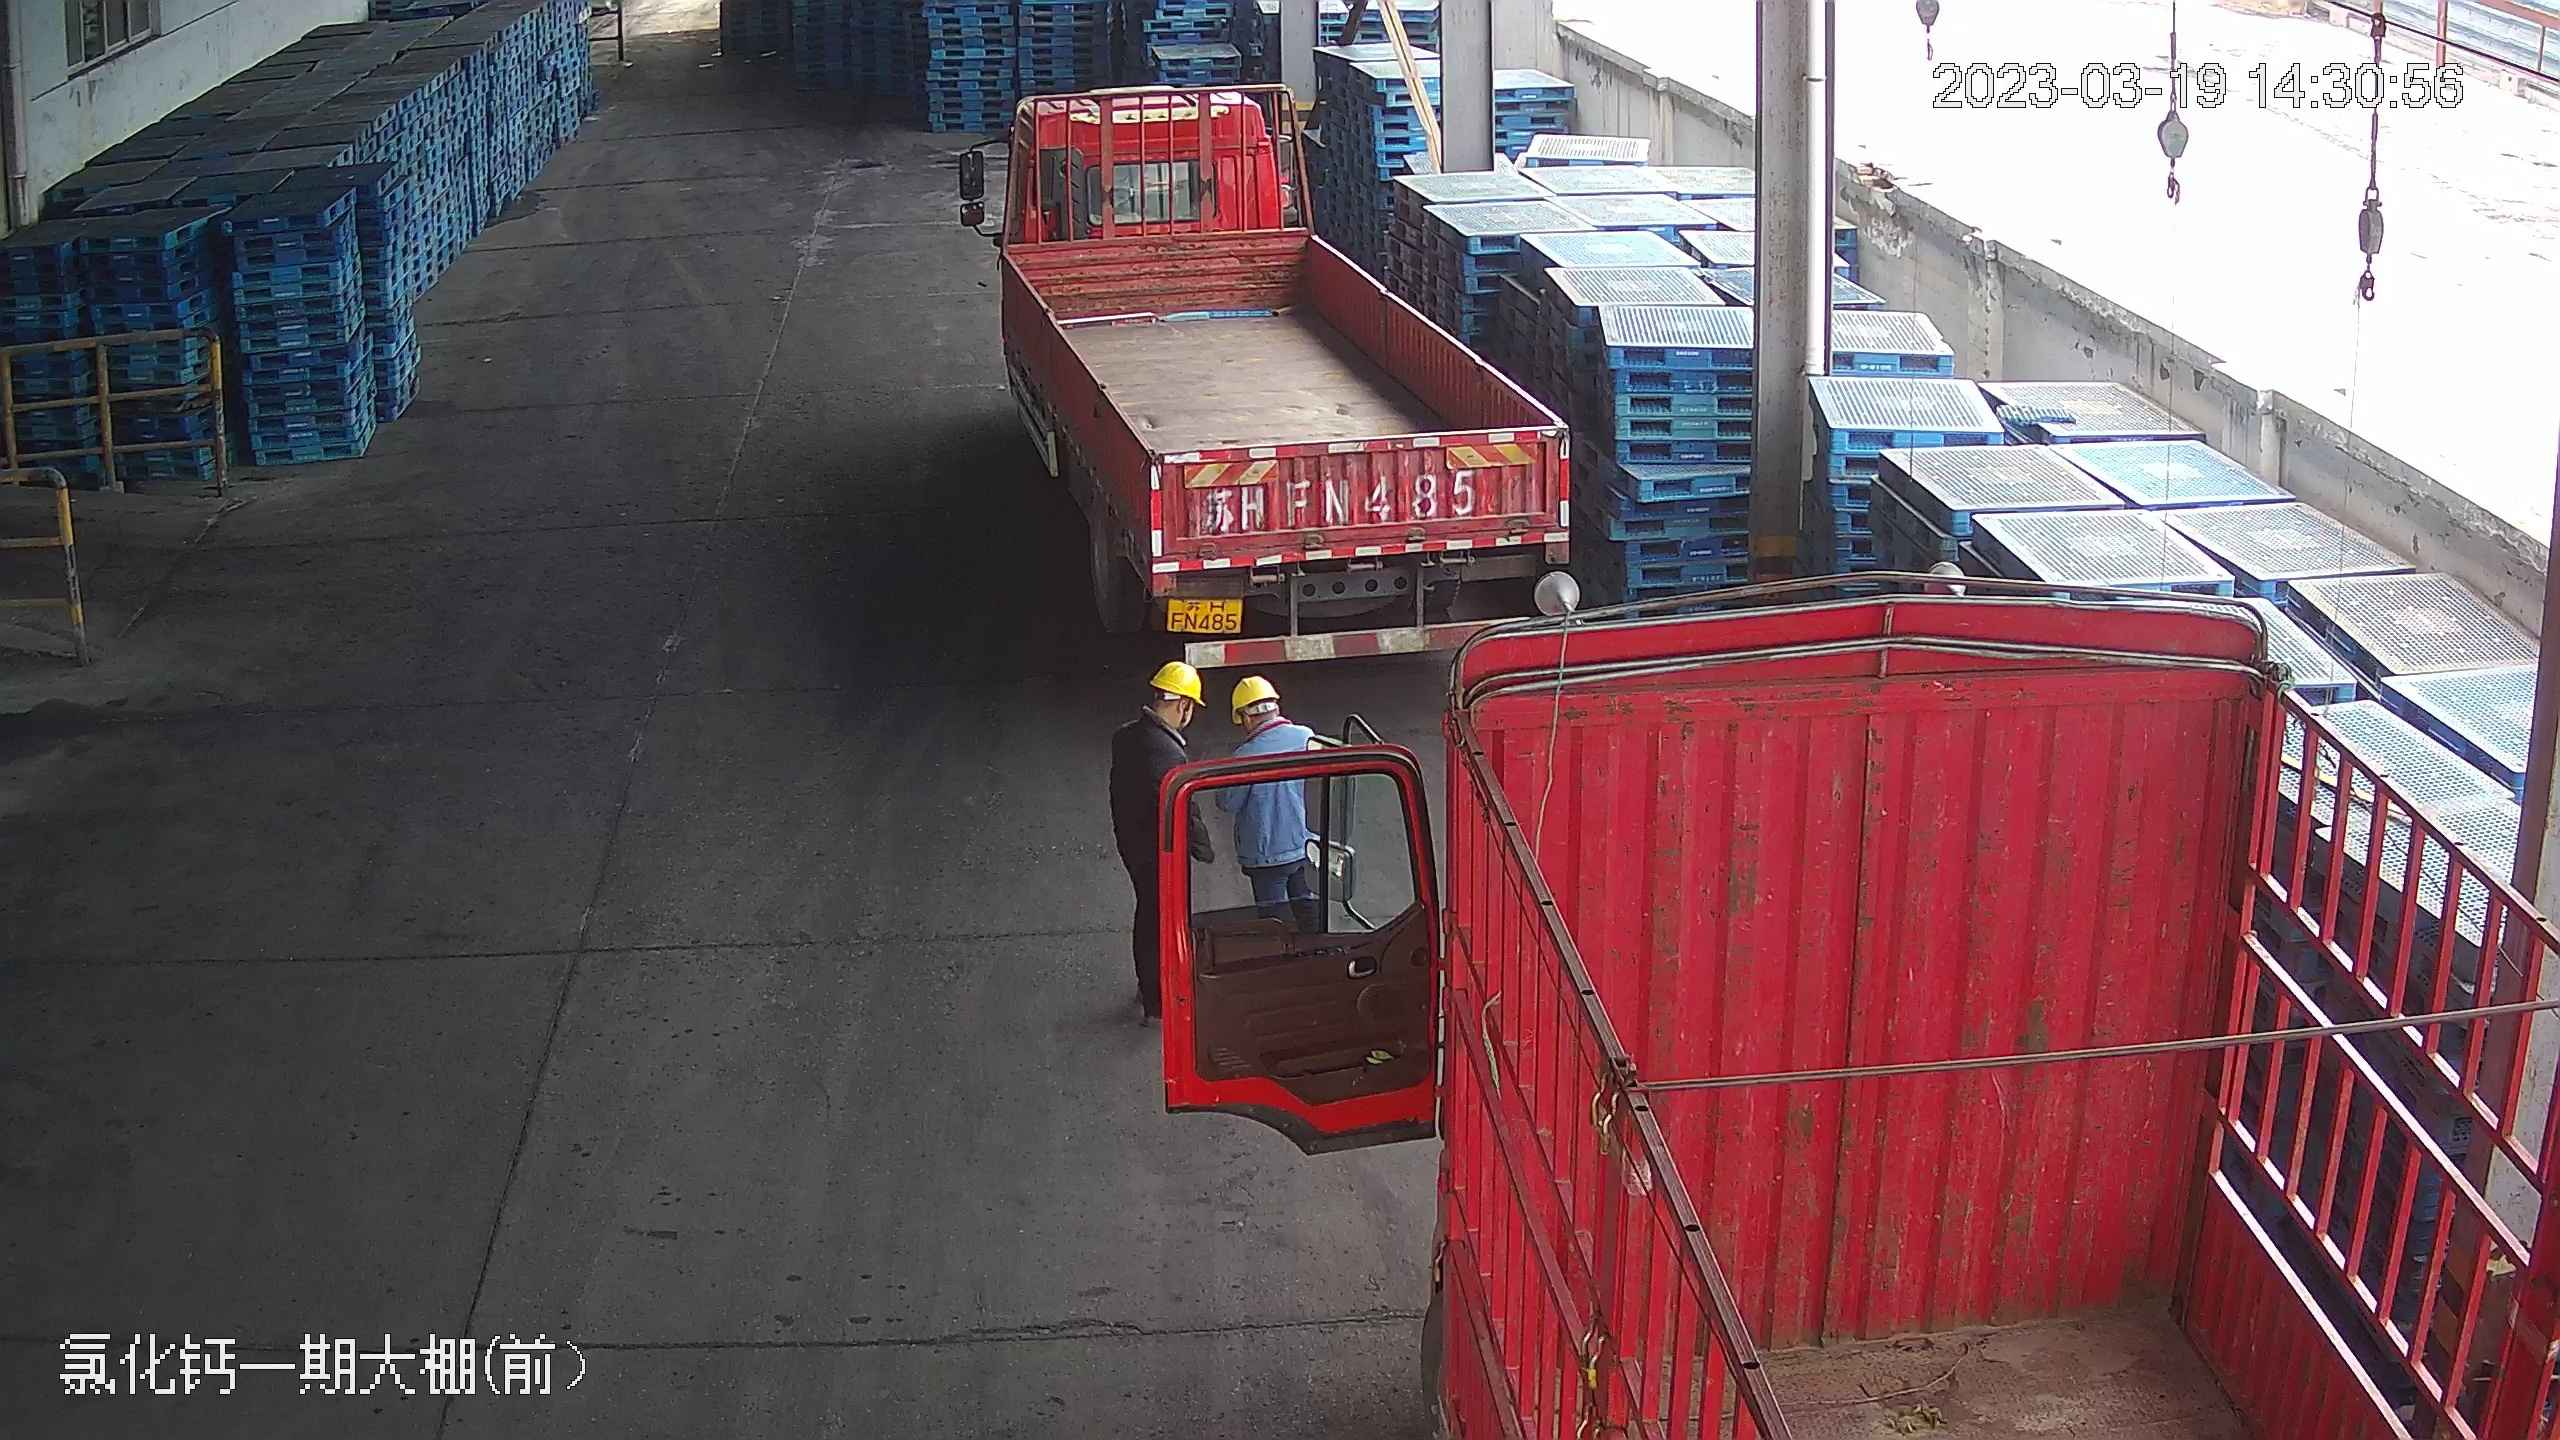head: (1109, 658, 1208, 764), (1216, 672, 1316, 775)
helmet: (1144, 660, 1204, 703), (1226, 671, 1281, 713)
people: (1101, 651, 1210, 1035), (1211, 673, 1344, 936)
truck: (1365, 530, 2546, 1440), (965, 64, 1578, 672)
